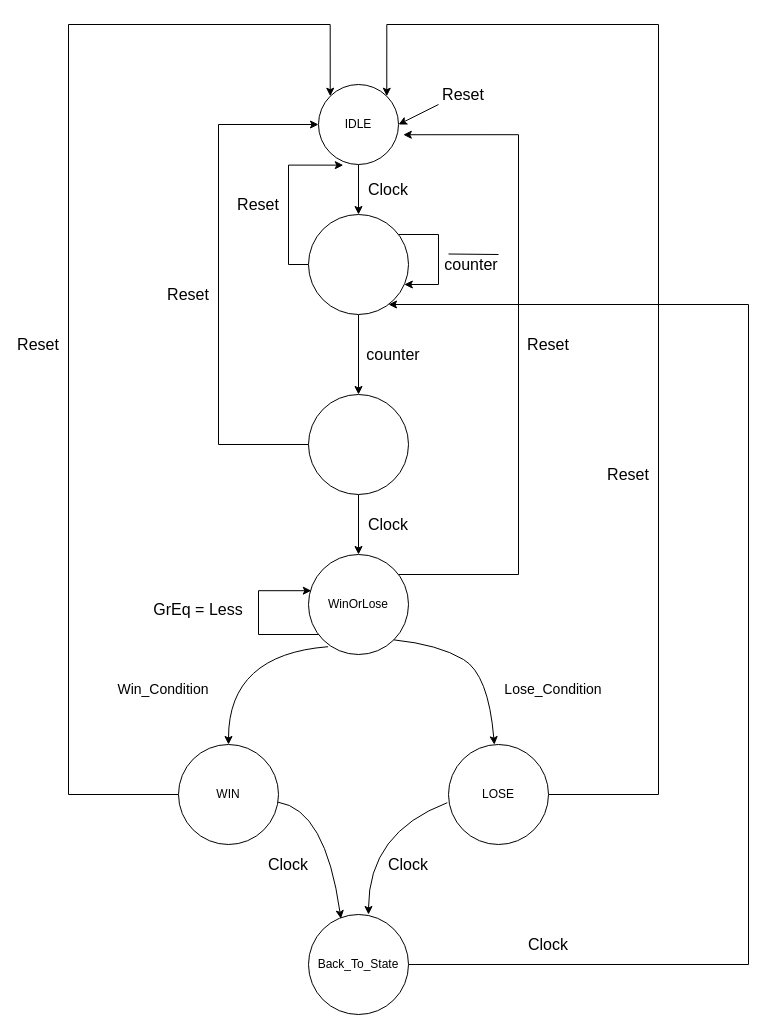
This 774x1032 diagram has some shape labels left out. The shapes that lost their labels are listed below. From the top down, each one's centre as x and y in pixels, then its label:
At (x=358, y=264): "LOAD_VALUES".
At (x=358, y=444): "GUESS_STATE".
